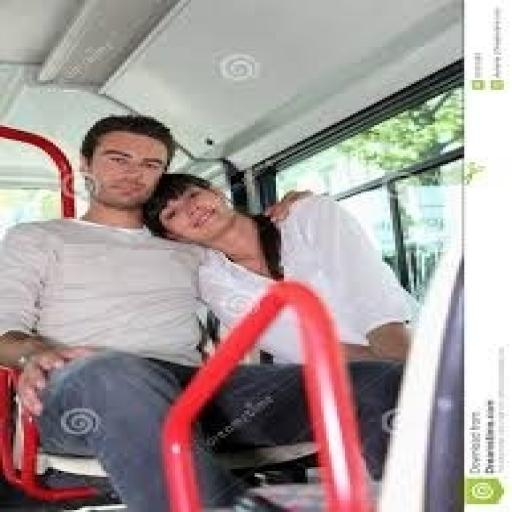sitting: (138, 170, 419, 487), (0, 113, 220, 510)
